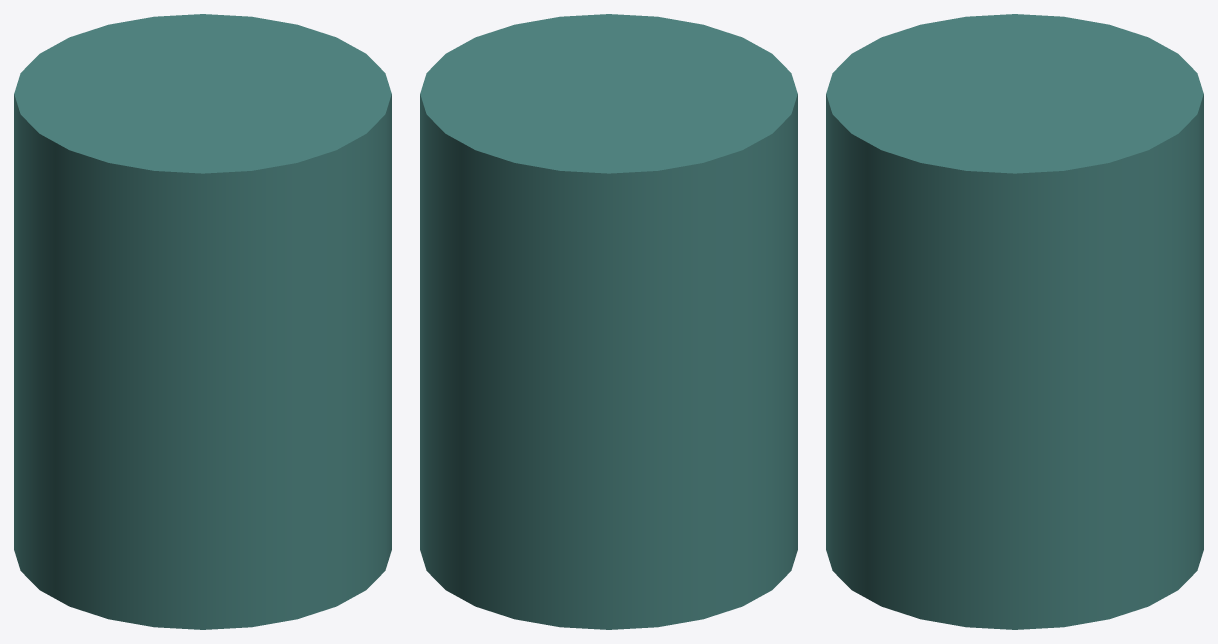
Rendered from wp-cylindre-geometrique.glb.
3 views of the same model, side by side, from view 1: azimuth 30°, elevation 25°; view 2: azimuth 150°, elevation 25°; view 3: azimuth 270°, elevation 25° (orthographic).
Visible parts, largest first — view 1: wp-cylindre-geometrique; view 2: wp-cylindre-geometrique; view 3: wp-cylindre-geometrique.
Part boxes in pixels (x1=…): wp-cylindre-geometrique: x1=14, y1=14, x2=391, y2=629; wp-cylindre-geometrique: x1=420, y1=14, x2=797, y2=629; wp-cylindre-geometrique: x1=826, y1=14, x2=1203, y2=629.
Bounding box in the file's own units: 0.3 × 0.4 × 0.3.
